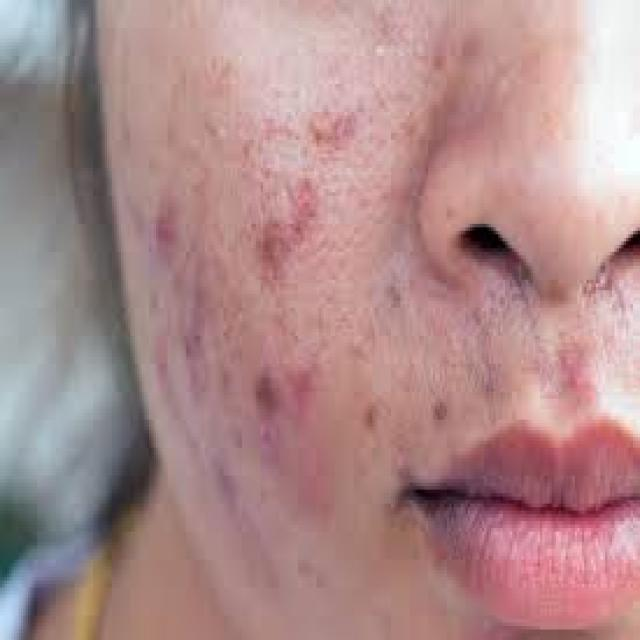Acne: (246, 215, 300, 282), (281, 346, 320, 426), (304, 108, 361, 152), (561, 344, 594, 404), (148, 203, 180, 258), (293, 178, 320, 222)
